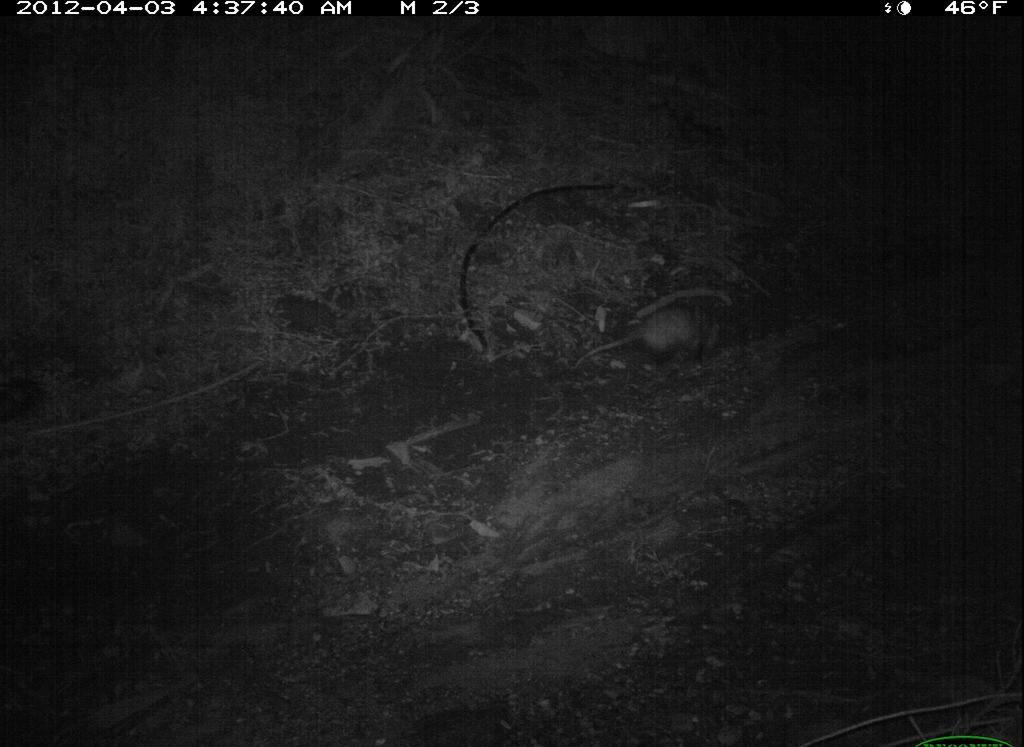opossum: (565, 296, 747, 381)
